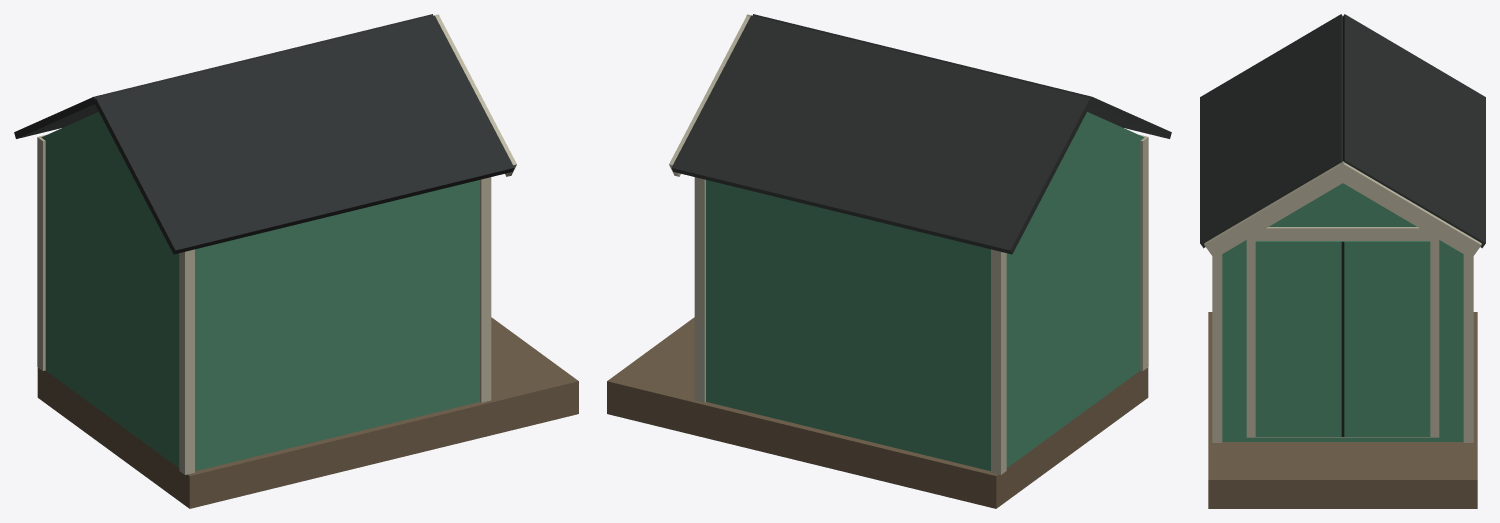
Rendered from SM_Prop_coast_beachhut_3_LOD1.glb.
3 views of the same model, side by side, from view 1: azimuth 30°, elevation 25°; view 2: azimuth 150°, elevation 25°; view 3: azimuth 270°, elevation 25° (orthographic). The views are drawn at different scales.
Parts seen in each view (by area): view 1: SM_Prop_coast_beachhut_3_LOD1; view 2: SM_Prop_coast_beachhut_3_LOD1; view 3: SM_Prop_coast_beachhut_3_LOD1.
Boxes of the visible parts, box(x1,y1,x2,y2) form: SM_Prop_coast_beachhut_3_LOD1: box(14, 14, 578, 508); SM_Prop_coast_beachhut_3_LOD1: box(607, 14, 1171, 508); SM_Prop_coast_beachhut_3_LOD1: box(1200, 14, 1485, 508).
Bounding box in the file's own units: 3.25 × 2.74 × 2.23.
